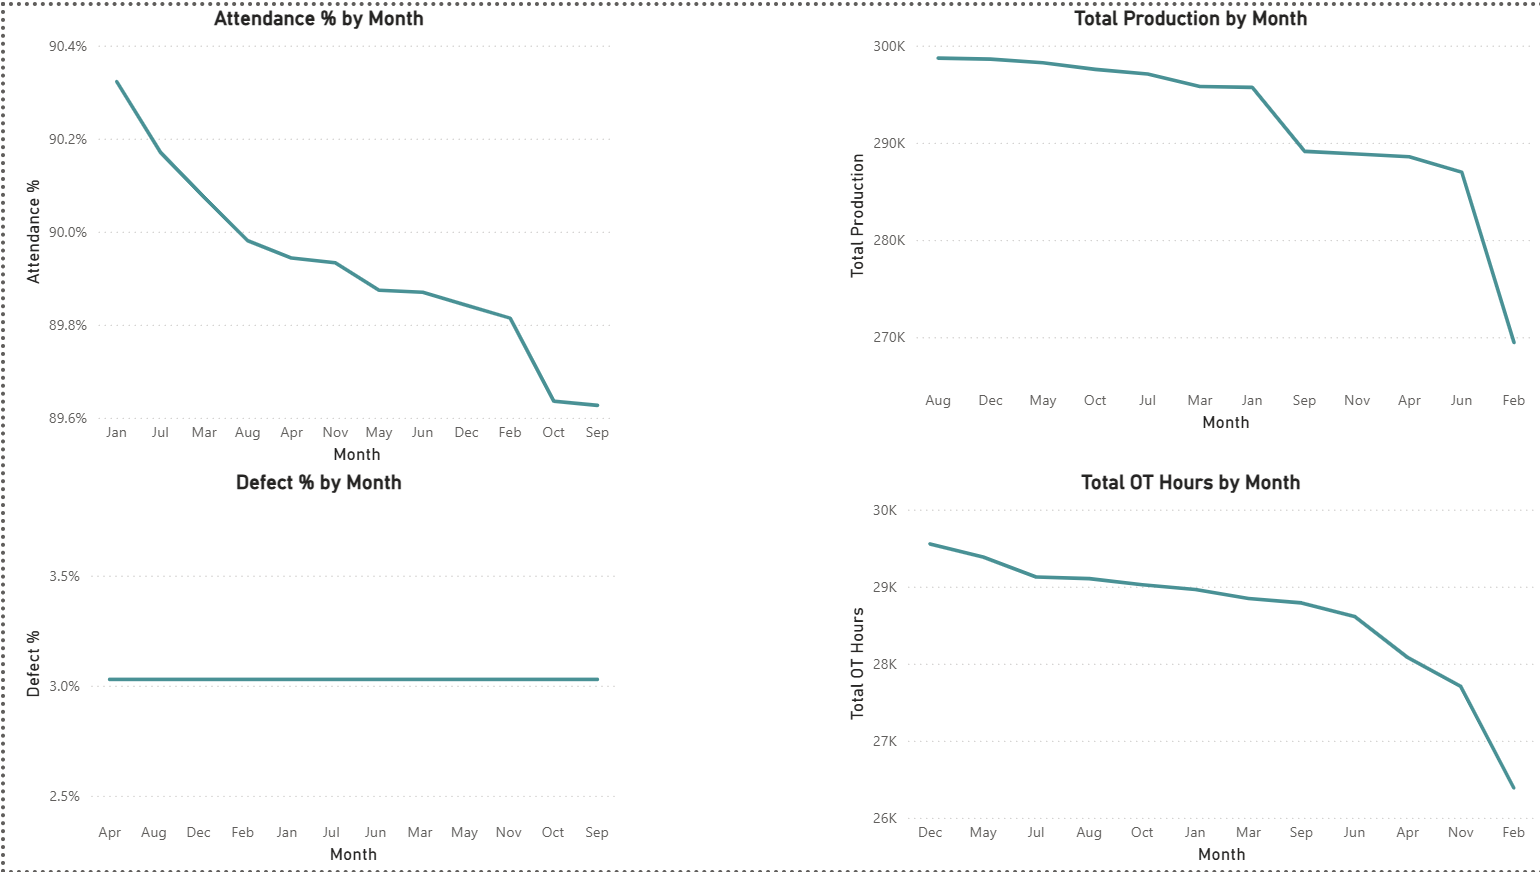

The page's visual inventory and layout, read from the dashboard file:
{"tool":"powerbi","page":{"name":"Trend Analysis","canvas":[1280,720],"ordinal":4},"visuals":[{"type":"lineChart","fields":{"Category":["DimDate.Month"],"Y":["public attendance.Attendance %"]},"box":[10,0,503.3,386.7],"z":0},{"type":"lineChart","fields":{"Category":["DimDate.Month"],"Y":["public overtime.Total OT Hours"]},"box":[696.7,386.7,583.3,333.3],"z":1},{"type":"lineChart","fields":{"Category":["DimDate.Month"],"Y":["public production.Total Production"]},"box":[696.7,0,583.3,360],"z":2},{"type":"lineChart","fields":{"Category":["DimDate.Month"],"Y":["public quality.Defect %"]},"box":[10,386.7,503.3,333.3],"z":3}]}

Visuals, with their boxes in screenshot pixels (x1, y1, x2, y2), scaled from the page's 1280x720 canvas onto the 1540x872 screenshot:
lineChart - DimDate.Month x public attendance.Attendance %: BBox(12, 0, 618, 468)
lineChart - DimDate.Month x public overtime.Total OT Hours: BBox(838, 468, 1539, 871)
lineChart - DimDate.Month x public production.Total Production: BBox(838, 0, 1539, 436)
lineChart - DimDate.Month x public quality.Defect %: BBox(12, 468, 618, 871)
